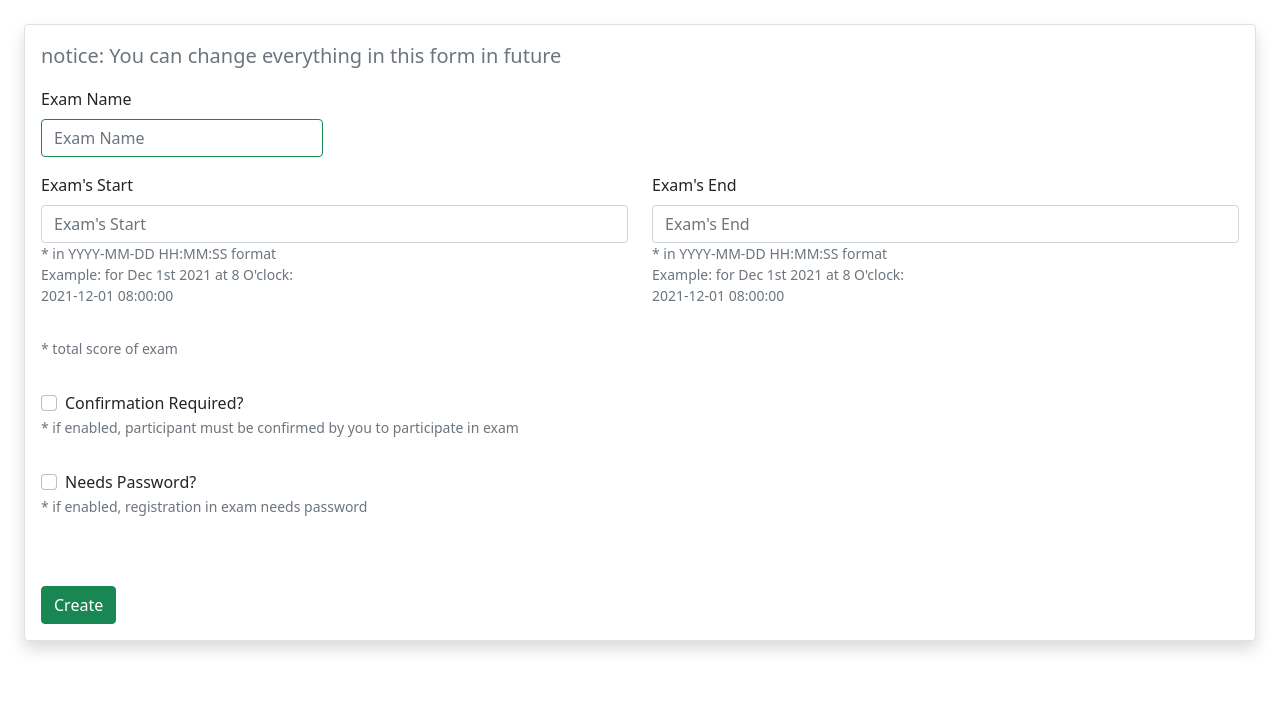
it: user can disable password feature
The width and height of the screenshot is (1280, 720).
Step 1. Click the checkbox labelled "Needs Password?" → (49, 482), box [41,474,57,490]
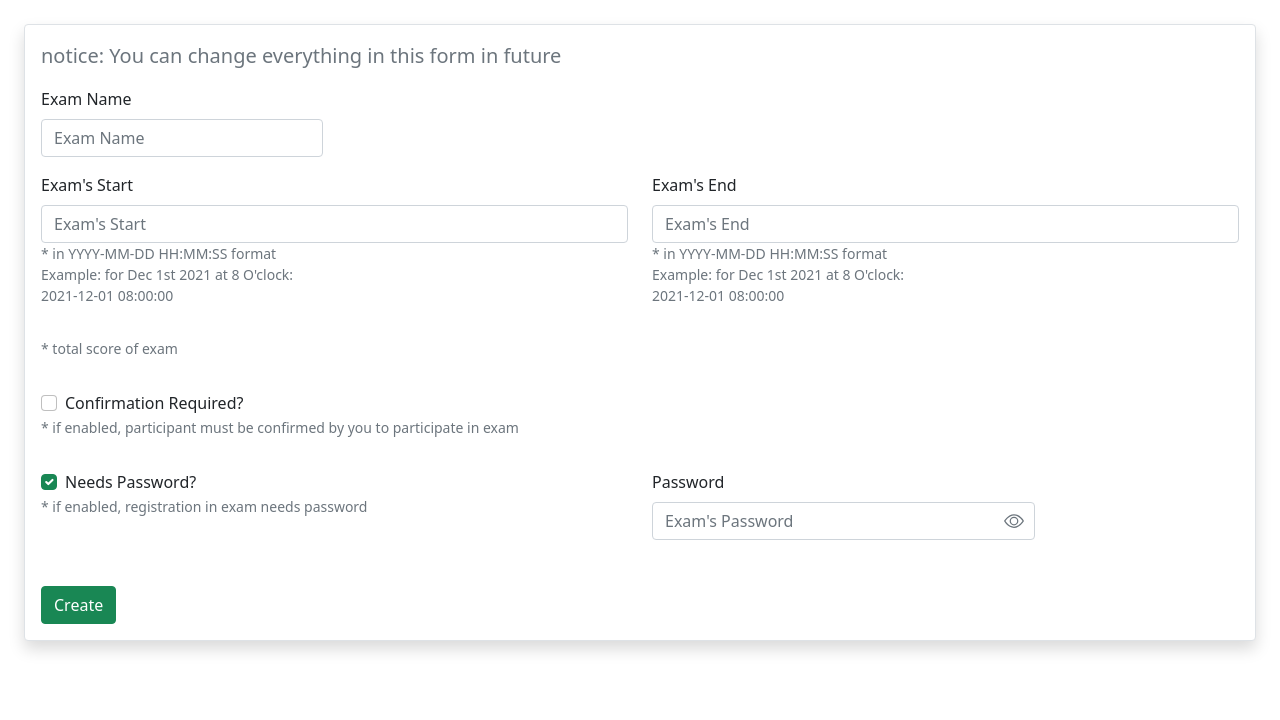
Step 2. Click the checkbox labelled "Needs Password?" → (49, 482), box [41,474,57,490]
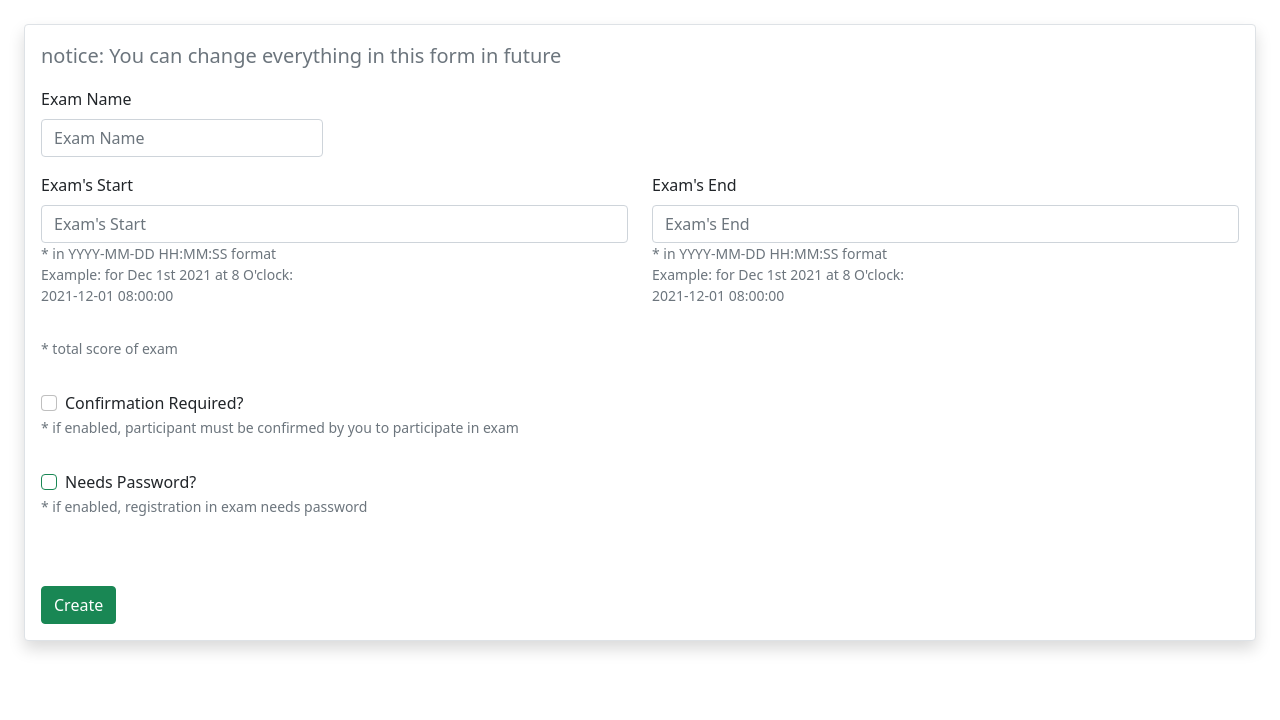
Expected: the checkbox labelled "Needs Password?" is not checked, [41,474,57,490]
Expected: the password field with placeholder "exam's password" is gone
